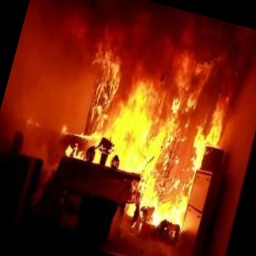fire: (41, 14, 250, 247)
